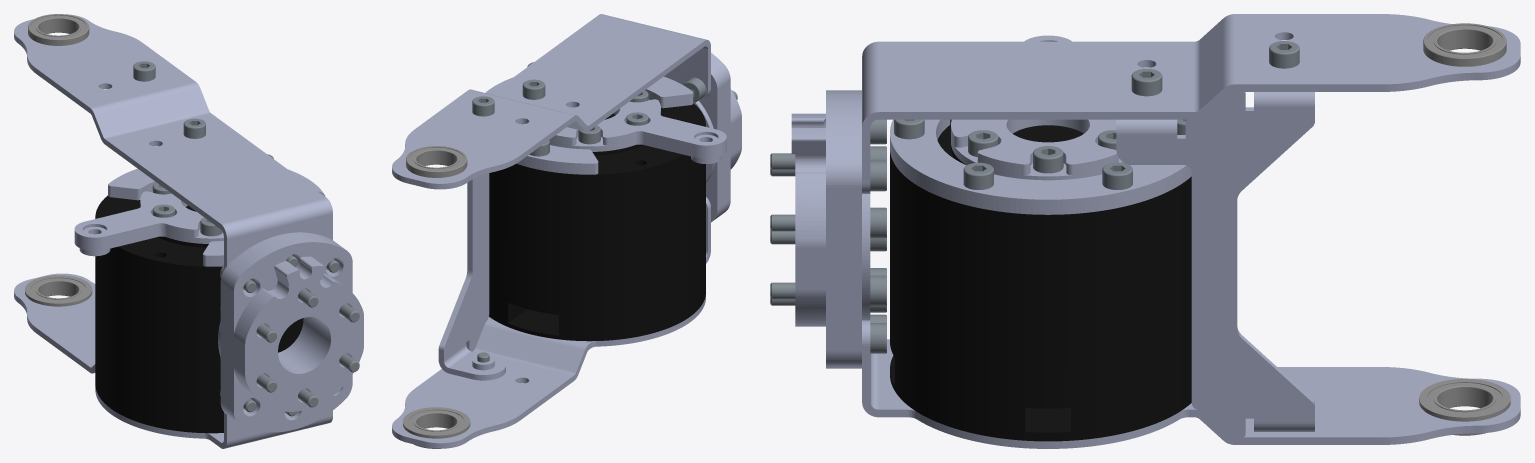
The model's file is right_arm_l5.glb.
3 views of the same model, side by side, from view 1: azimuth 30°, elevation 25°; view 2: azimuth 150°, elevation 25°; view 3: azimuth 270°, elevation 25° (orthographic). The views are drawn at different scales.
Parts seen in each view (by area): view 1: world; view 2: world; view 3: world.
Part boxes in pixels (x1,y1,x2,y2): world: (14,14,363,448); world: (392,14,741,448); world: (770,14,1520,448).
Bounding box in the file's own units: 66.5 × 77.6 × 135.
